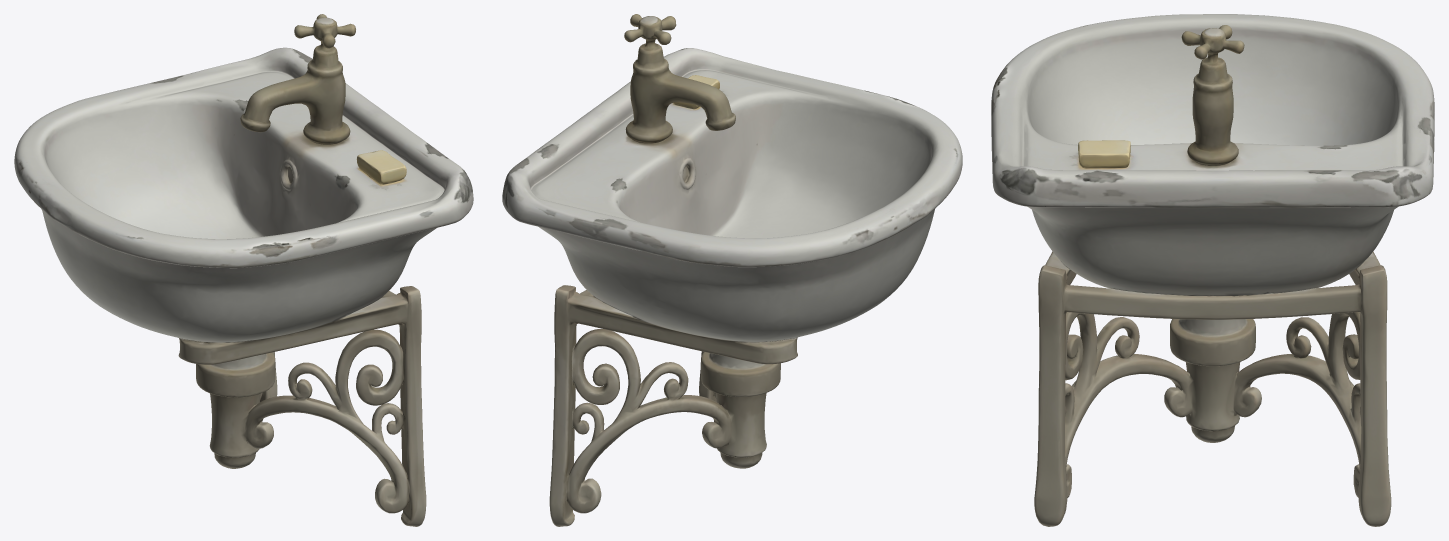
Rendered from silo81_washbasin.glb.
3 renders of one model, left to right at view 1: azimuth 30°, elevation 25°; view 2: azimuth 150°, elevation 25°; view 3: azimuth 270°, elevation 25°, orthographic. The views are drawn at different scales.
Visible parts, largest first — view 1: tripo_node_5625dd34-8dfc-4282-a8c0-ac4beef54d93; view 2: tripo_node_5625dd34-8dfc-4282-a8c0-ac4beef54d93; view 3: tripo_node_5625dd34-8dfc-4282-a8c0-ac4beef54d93.
Boxes of the visible parts, bbox=[...] form: tripo_node_5625dd34-8dfc-4282-a8c0-ac4beef54d93: bbox=[14, 14, 473, 526]; tripo_node_5625dd34-8dfc-4282-a8c0-ac4beef54d93: bbox=[502, 14, 962, 526]; tripo_node_5625dd34-8dfc-4282-a8c0-ac4beef54d93: bbox=[991, 14, 1434, 526].
Size of the model in its own units: 0.7705 by 0.98 by 0.8065.
Materials: 1 (1 with a texture image).
